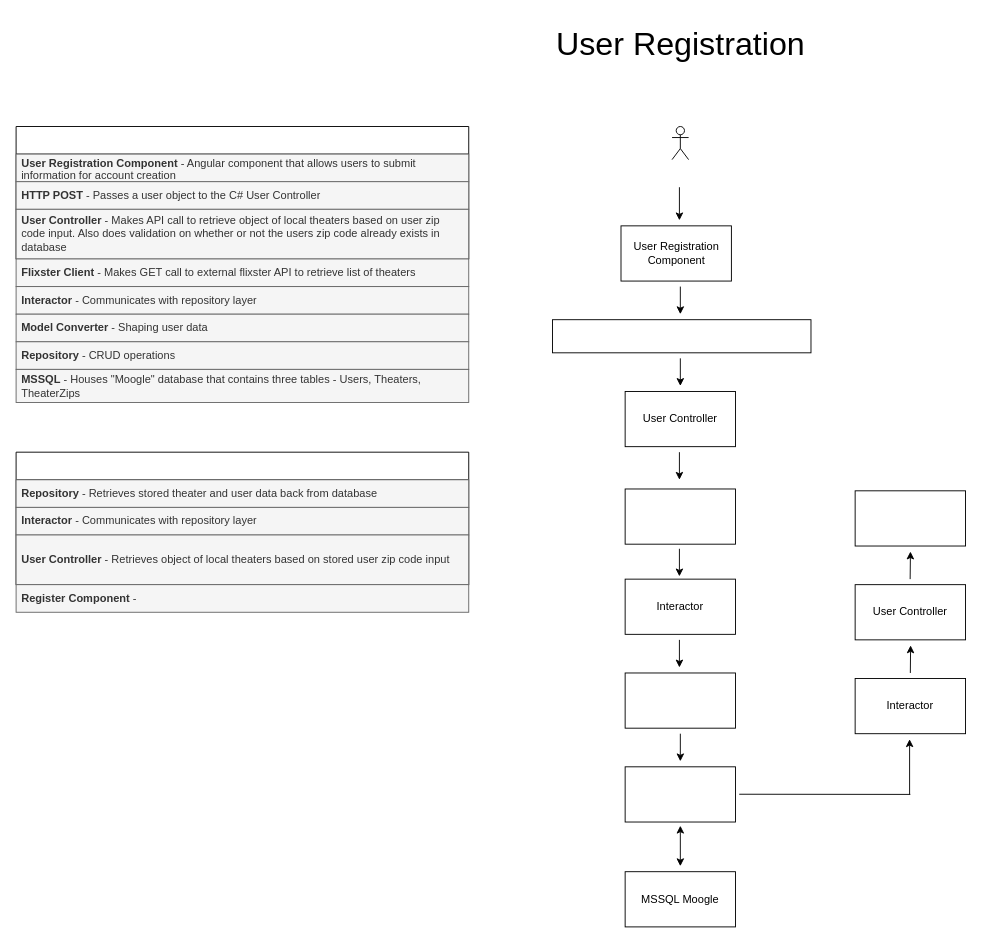
This 982x943 diagram has some shape labels left out. Here are the shapes that lost their labels. From the top down, the box of each, then its label:
(671, 126, 689, 160): User
(15, 126, 469, 259): Registration Flow To Database
(552, 319, 811, 353): POST user object: api/user/registeruser
(15, 451, 469, 585): Registration Flow To User
(624, 488, 736, 544): Flixster Client API Call For Theaters
(854, 490, 966, 546): Register Component
(624, 672, 736, 728): Model Converter
(624, 766, 736, 822): Repository
